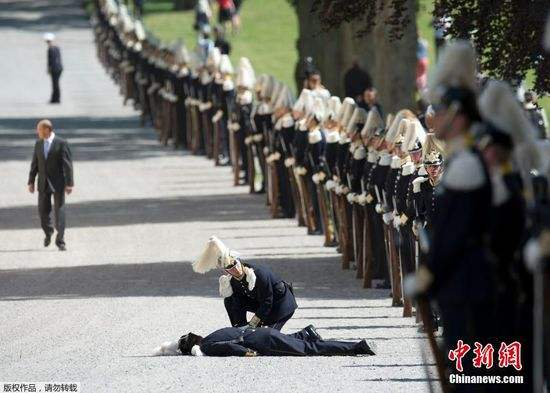10+: (20, 1, 546, 369)
down: (159, 319, 379, 364)
